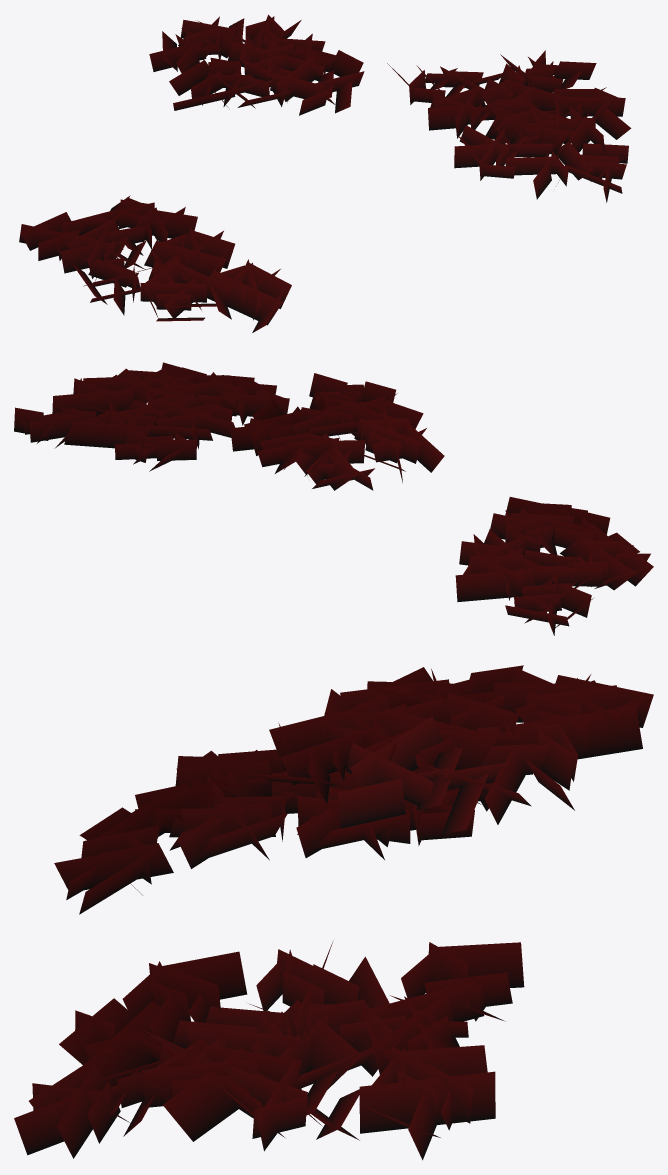
The picture shows the model from 3 angles, top to bottom: view 1: azimuth 30°, elevation 25°; view 2: azimuth 150°, elevation 25°; view 3: azimuth 270°, elevation 25°; orthographic projection. The views are drawn at different scales.
Visible parts, largest first — view 1: G:\FFXIV-MapTools\exports\d2f2\bg\ex1\02_dra_d2\fld\d2f2\bgp; view 2: G:\FFXIV-MapTools\exports\d2f2\bg\ex1\02_dra_d2\fld\d2f2\bgp; view 3: G:\FFXIV-MapTools\exports\d2f2\bg\ex1\02_dra_d2\fld\d2f2\bgp.
Boxes of the visible parts, x1=… form: G:\FFXIV-MapTools\exports\d2f2\bg\ex1\02_dra_d2\fld\d2f2\bgp: x1=19, y1=14, x2=631, y2=332; G:\FFXIV-MapTools\exports\d2f2\bg\ex1\02_dra_d2\fld\d2f2\bgp: x1=14, y1=362, x2=653, y2=635; G:\FFXIV-MapTools\exports\d2f2\bg\ex1\02_dra_d2\fld\d2f2\bgp: x1=14, y1=665, x2=653, y2=1160.
Bounding box in the file's own units: 17.14 × 4.97 × 9.66.
